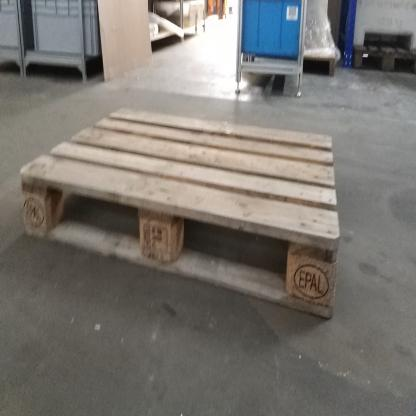BoxFace: (16, 103, 345, 328)
